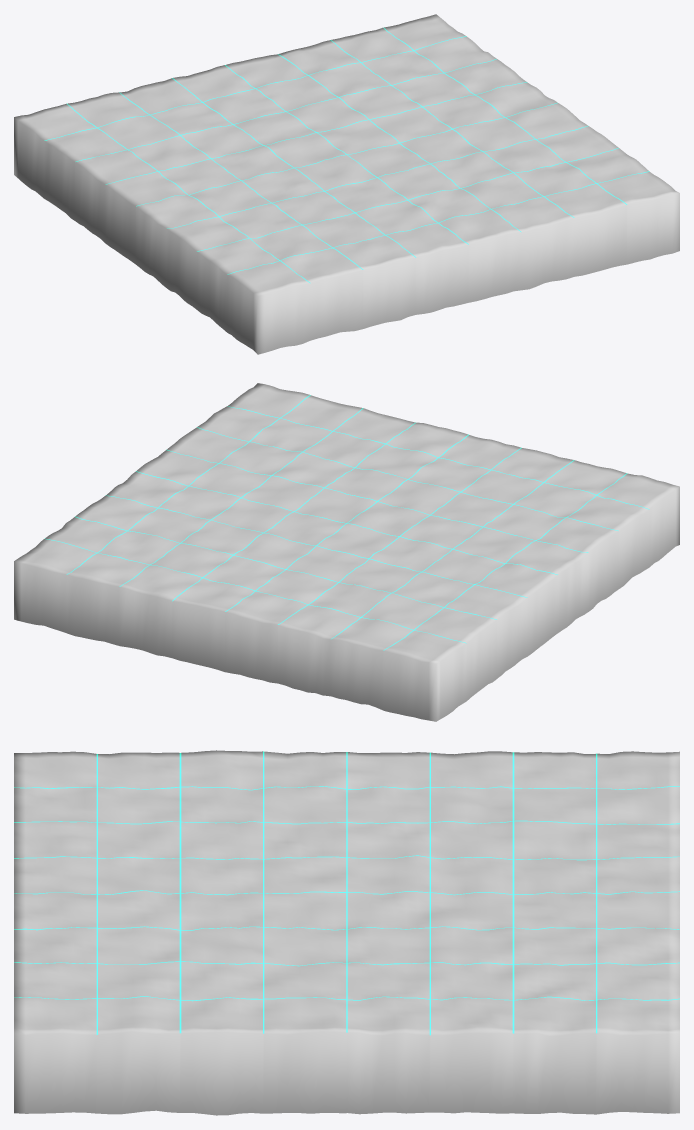
The model's file is 2_nd_half.fbx.
The picture shows the model from 3 angles, top to bottom: view 1: azimuth 30°, elevation 25°; view 2: azimuth 150°, elevation 25°; view 3: azimuth 270°, elevation 25°; orthographic projection. The views are drawn at different scales.
Visible parts, largest first — view 1: Plane.001; view 2: Plane.001; view 3: Plane.001.
Part boxes in pixels (<box>): Plane.001: <box>14,14,679,354</box>; Plane.001: <box>14,383,679,721</box>; Plane.001: <box>14,750,679,1115</box>.
Size of the model in its own units: 3459 by 484 by 3459.
